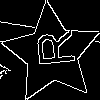R: (26, 28, 75, 70)
